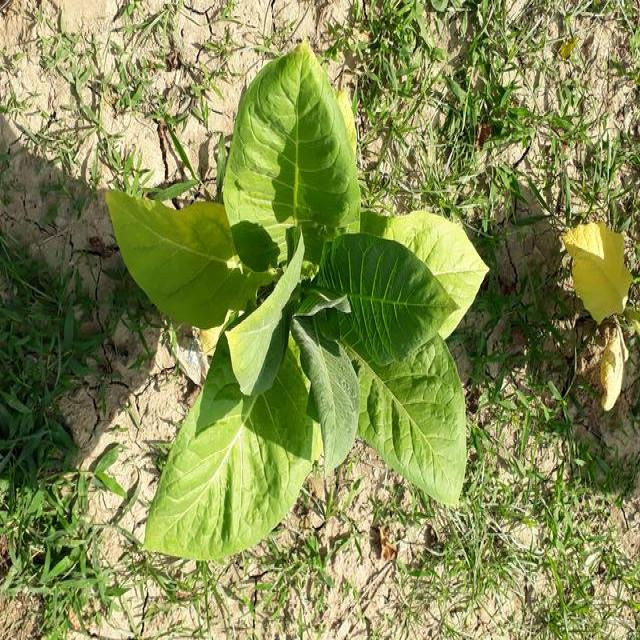crop: (127, 46, 490, 556)
